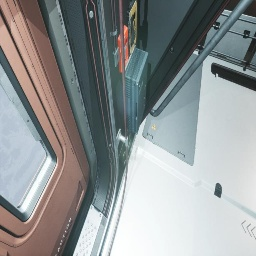EmergencyPhone ,: (127, 0, 137, 55)
FireAlarm ,: (118, 25, 128, 73)
